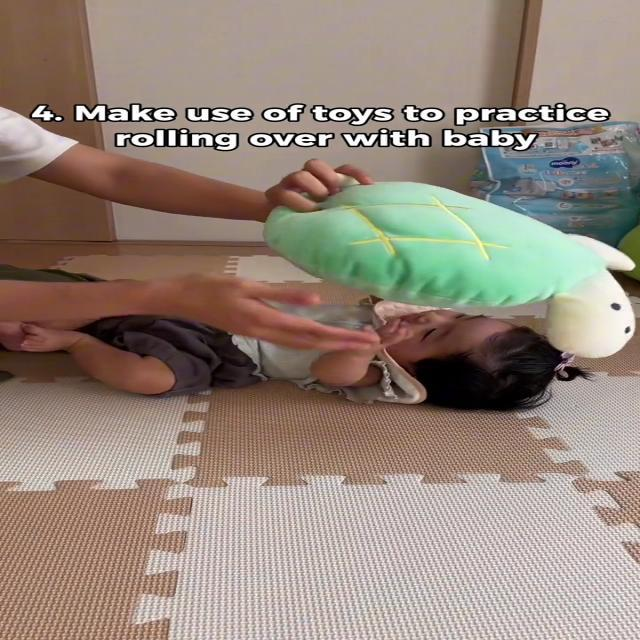baby: (5, 275, 592, 409)
